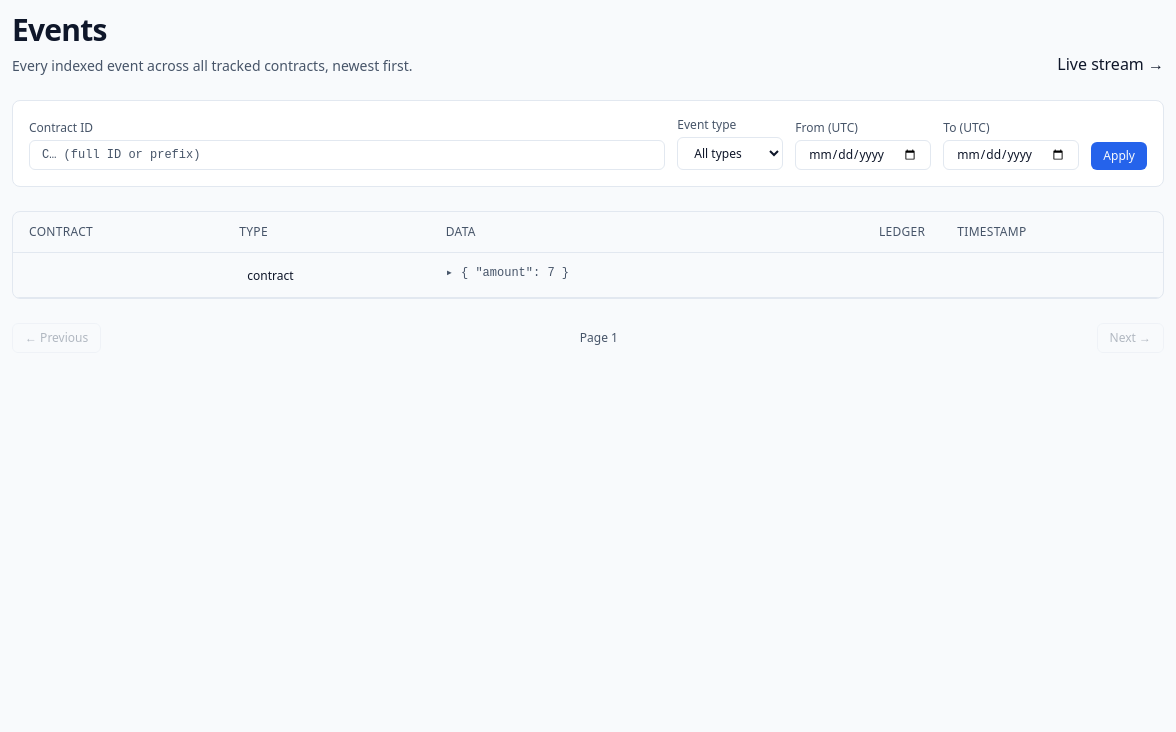
EventsExplorerPage › expands a row to show the decoded data
This screenshot has width=1176, height=732.
Click the button "▸ { \"amount\": 7 }". click: (507, 273)
box: [446, 265, 569, 281]
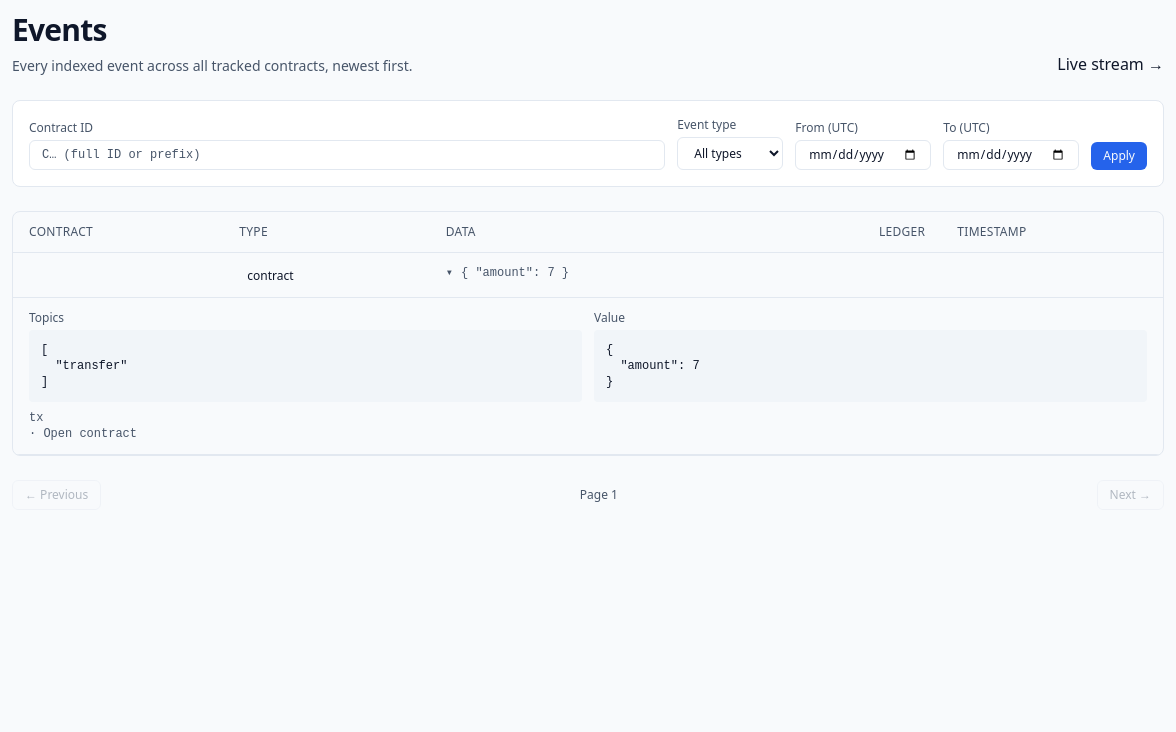
Now the text "{ \"amount\": 7 }" below "Value" is shown, box [606, 343, 700, 389]
